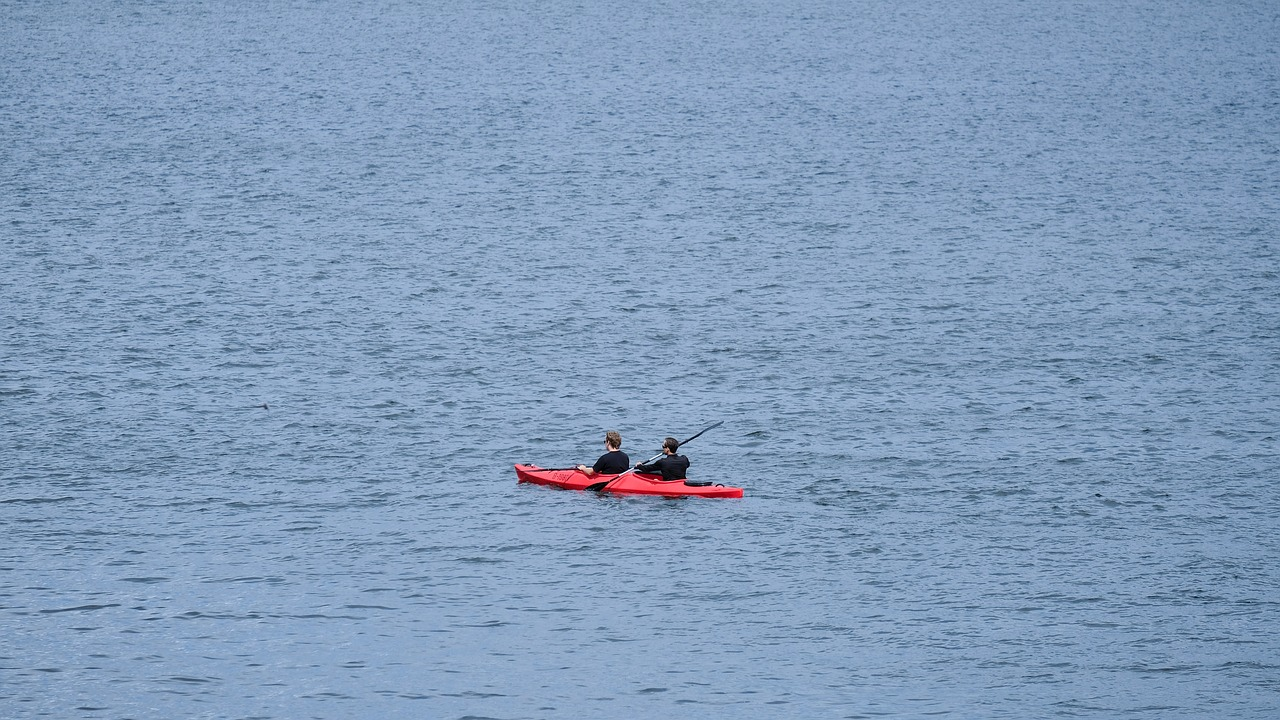kayak: (511, 461, 745, 501)
